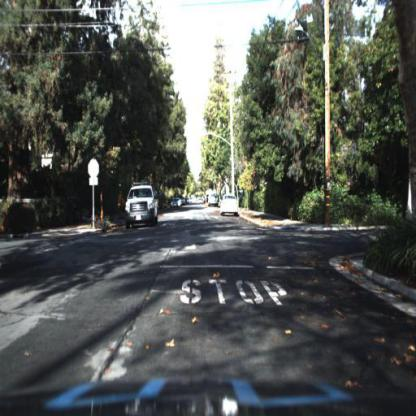car: (124, 183, 159, 231), (218, 192, 241, 218), (220, 191, 238, 215), (170, 197, 181, 213)
